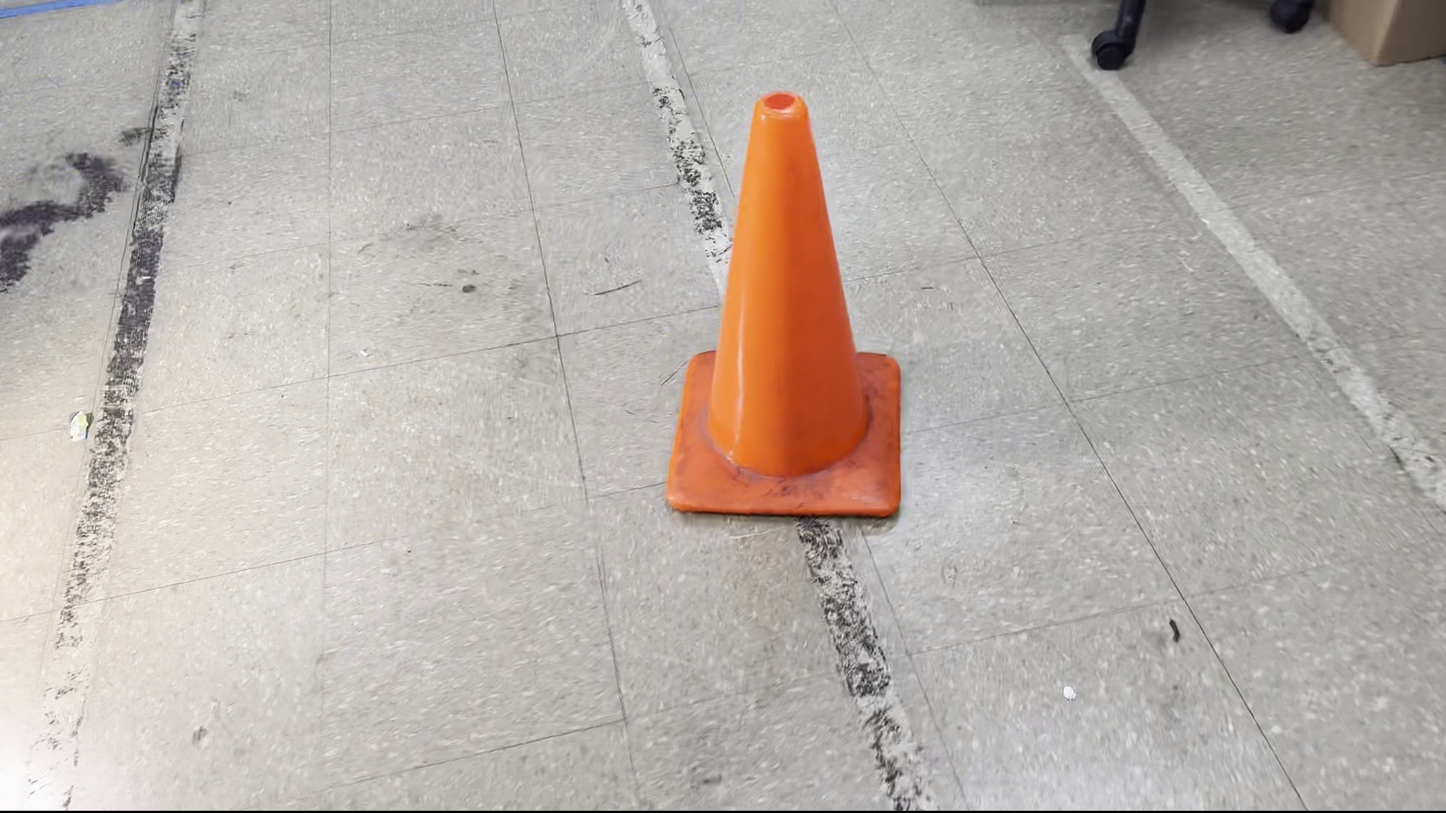traffic_cone: (664, 90, 902, 519)
